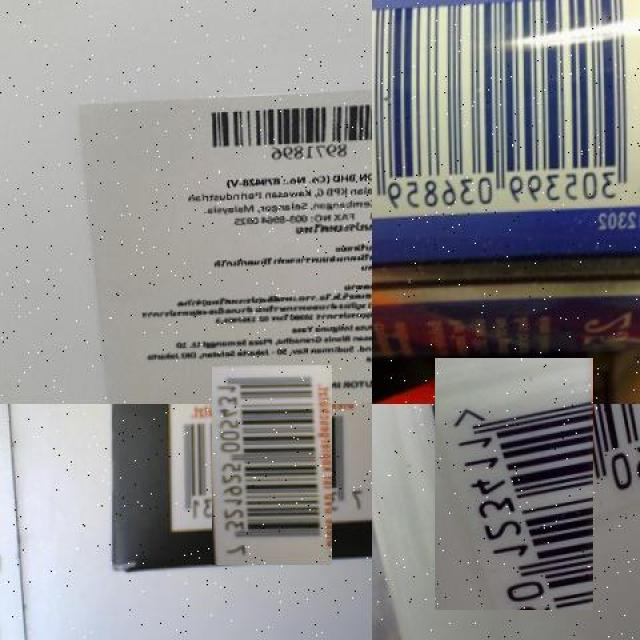Barcode: (372, 0, 640, 218), (411, 381, 617, 586), (192, 384, 352, 545), (199, 93, 372, 163)
